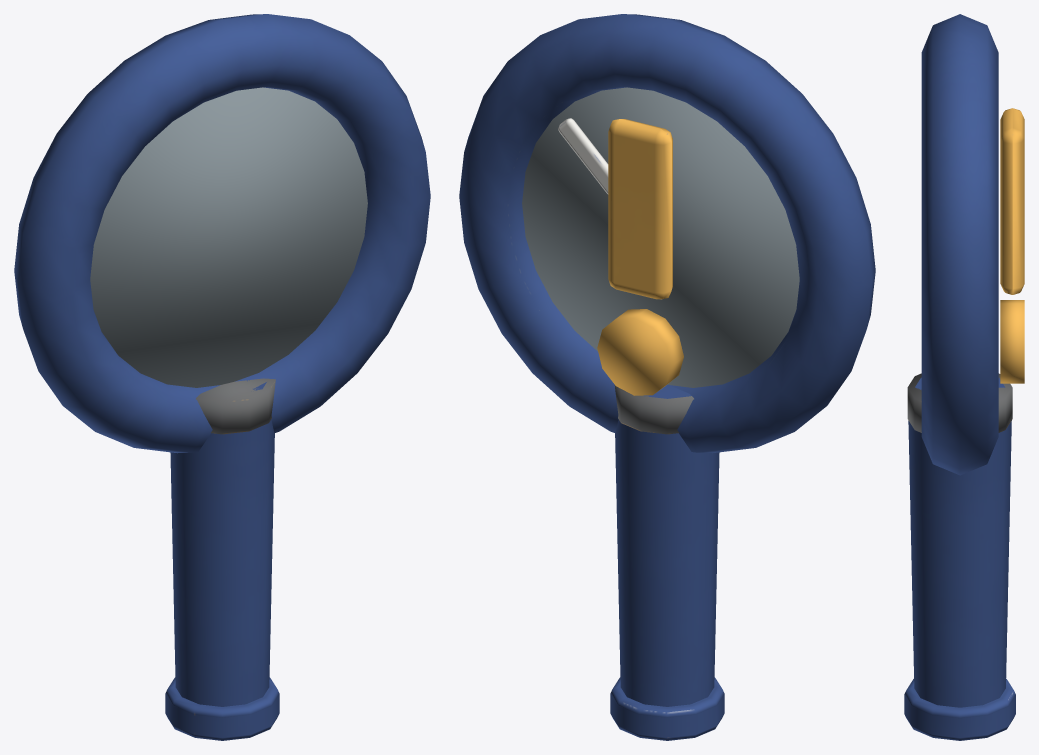
The model's file is Inspect_Marker.fbx.
3 views of the same model, side by side, from view 1: azimuth 30°, elevation 25°; view 2: azimuth 150°, elevation 25°; view 3: azimuth 270°, elevation 25° (orthographic). The views are drawn at different scales.
Parts seen in each view (by area): view 1: Inspect_Marker; view 2: Inspect_Marker; view 3: Inspect_Marker.
Part boxes in pixels (x1,y1,x2,y2): Inspect_Marker: (14,14,430,740); Inspect_Marker: (459,14,875,740); Inspect_Marker: (904,14,1024,740).
Size of the model in its own units: 0.264 by 0.432 by 0.069.
Materials: 1 (1 with a texture image).
